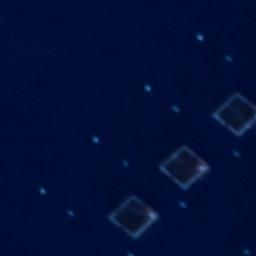square_cover: (105, 192, 163, 239), (156, 143, 211, 192), (209, 90, 256, 140)
